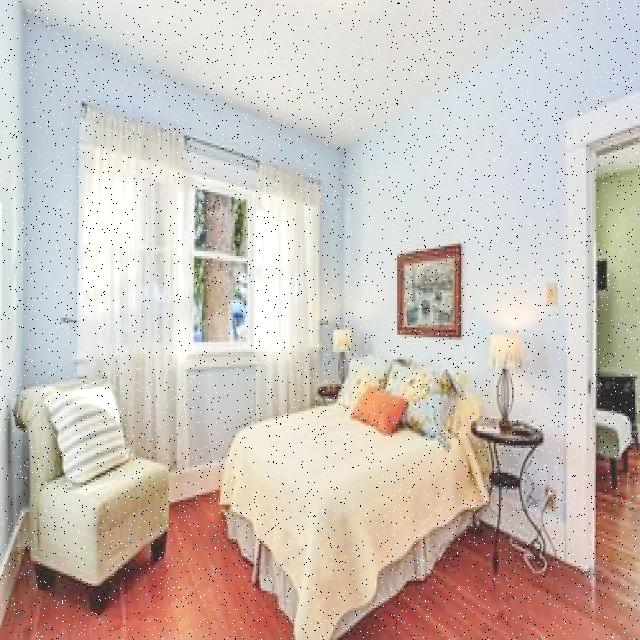bed: (224, 348, 482, 614)
